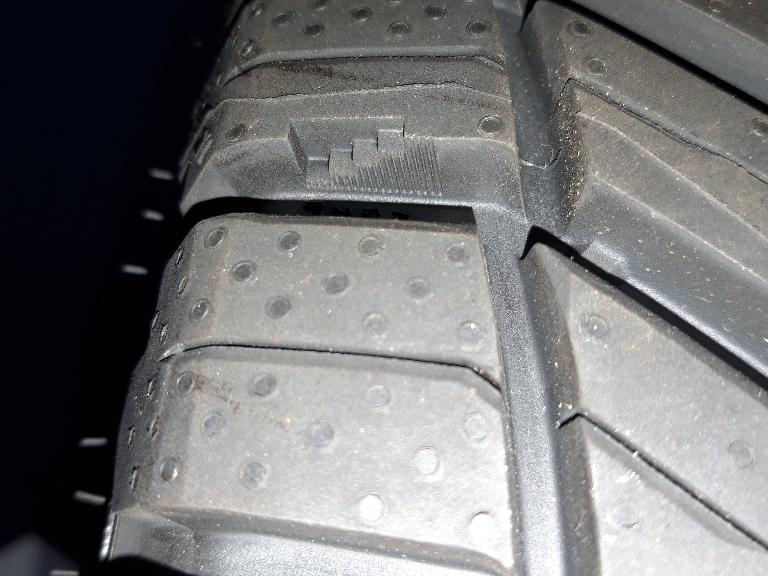temoin:100: (284, 115, 446, 199)
